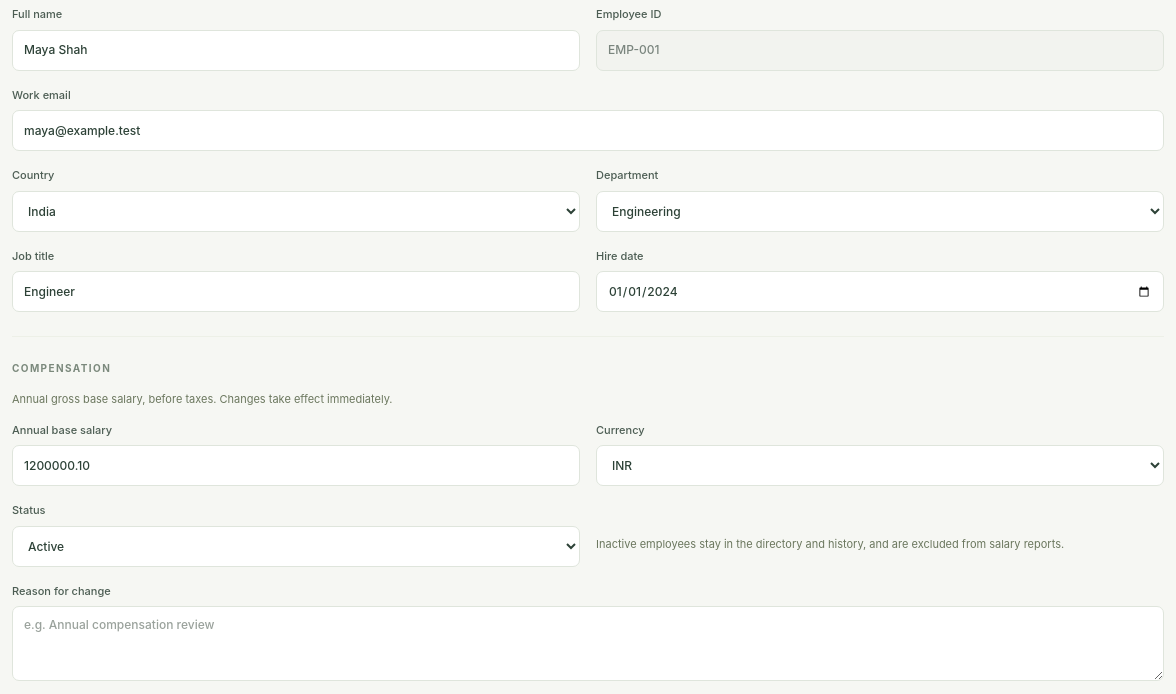
Scenario: salary editing › retains user input and explains a concurrent edit conflict
This screenshot has width=1176, height=694.
In the text box labelled "Reason for change": (588, 644) 12,606 -> 1164,681, type "Promotion"
(page scrolled)
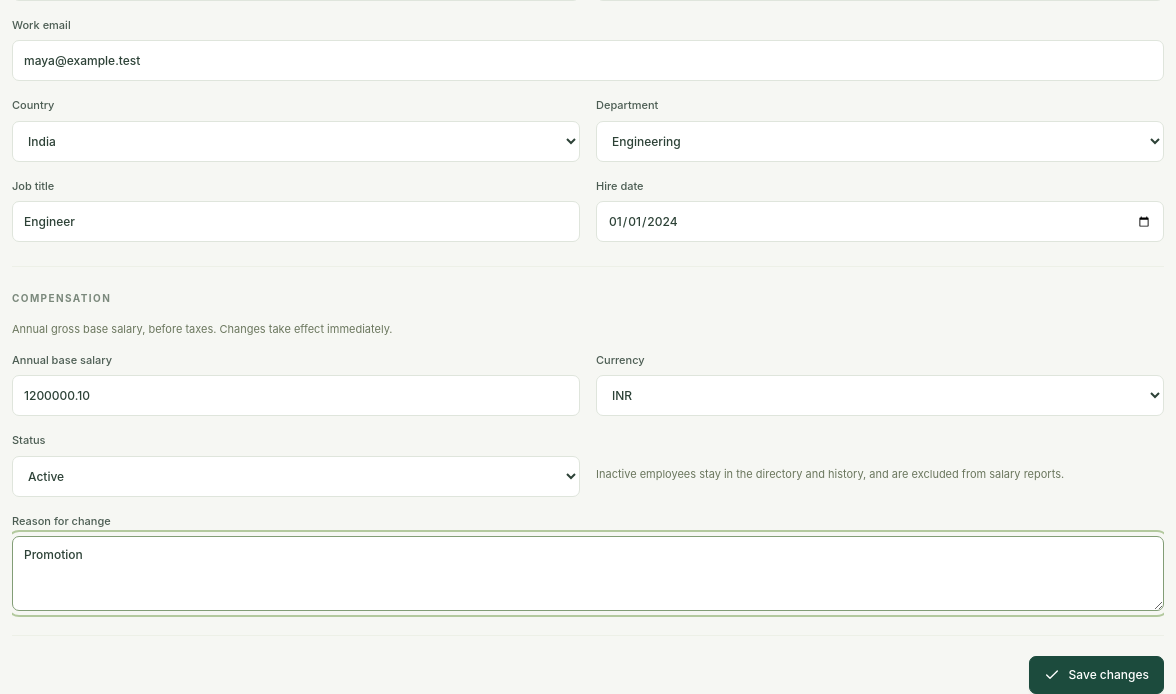
Click the button "Save changes": (1096, 675) 1029,656 -> 1164,693
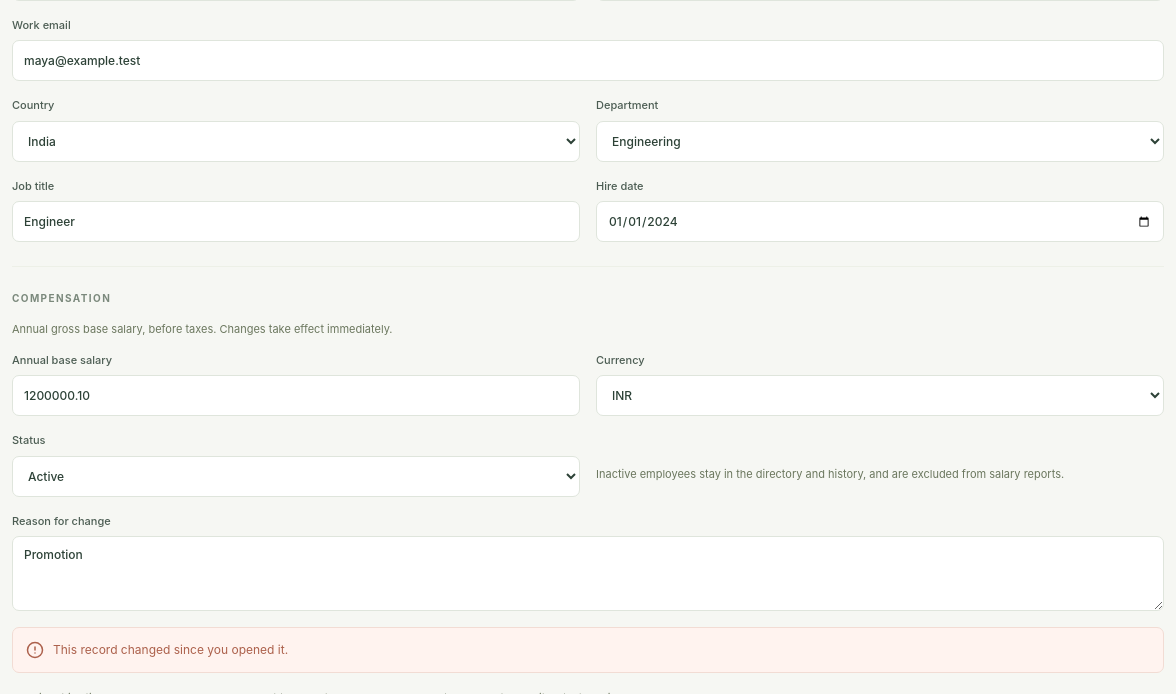
Result: the message shows "This record changed" at 53,642 -> 288,657
